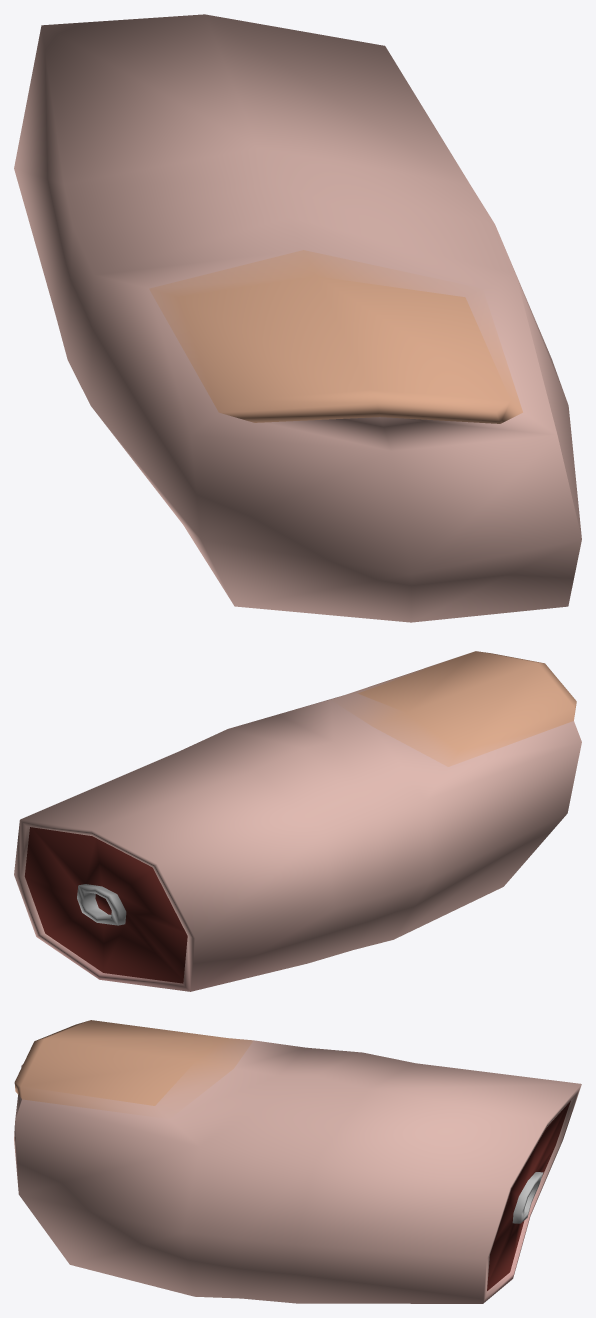
File: Dedo.fbx
The picture shows the model from 3 angles, top to bottom: view 1: azimuth 30°, elevation 25°; view 2: azimuth 150°, elevation 25°; view 3: azimuth 270°, elevation 25°; orthographic projection. The views are drawn at different scales.
Visible parts, largest first — view 1: Dedo; view 2: Dedo; view 3: Dedo.
Boxes of the visible parts, x1,y1,x2,y2 form: Dedo: (14, 14, 581, 622); Dedo: (14, 651, 581, 991); Dedo: (14, 1020, 581, 1303).
Bounding box in the file's own units: 40.9 × 21.97 × 60.95.
